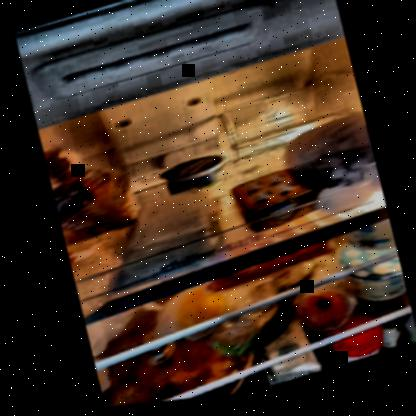butter: (226, 166, 319, 242)
carrot: (206, 246, 337, 298)
green_chillies: (205, 305, 305, 368)
lemon: (168, 290, 227, 341)
milk: (259, 340, 318, 390)
tomato: (299, 291, 353, 340)
yoghurt: (342, 256, 405, 316), (160, 151, 229, 205), (339, 226, 396, 269)
